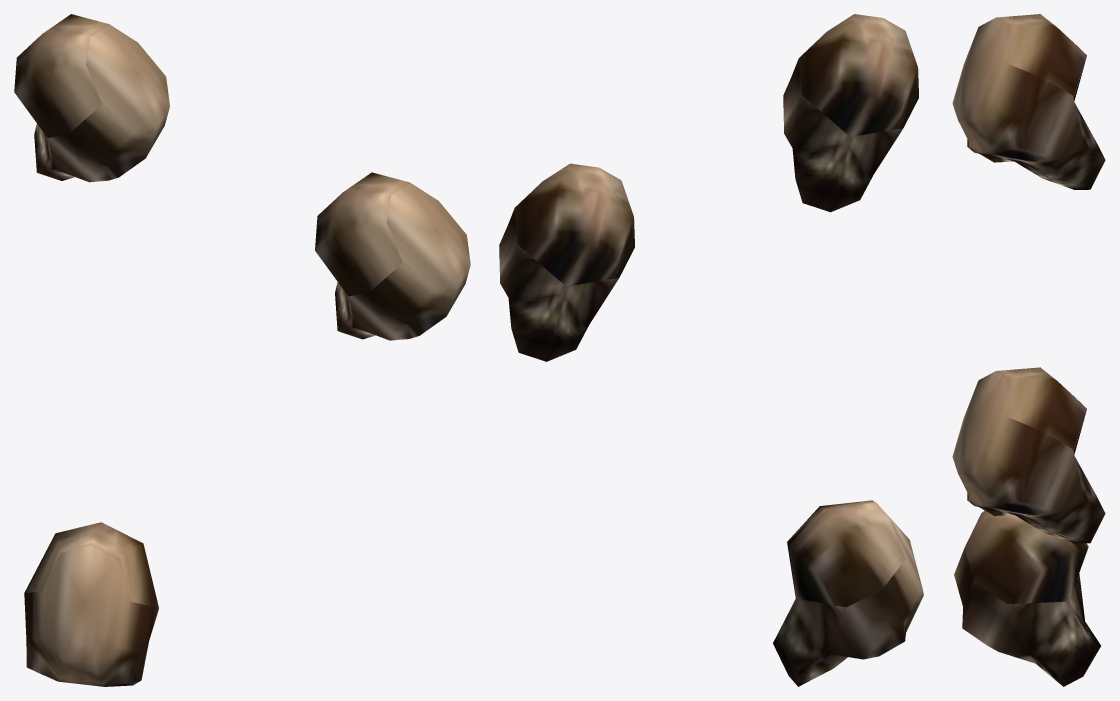
3 views of the same model, side by side, from view 1: azimuth 30°, elevation 25°; view 2: azimuth 150°, elevation 25°; view 3: azimuth 270°, elevation 25° (orthographic). The views are drawn at different scales.
Parts seen in each view (by area): view 1: model_Object37; view 2: model_Object37; view 3: model_Object37.
Boxes of the visible parts, x1=… form: model_Object37: x1=14, y1=14, x2=470, y2=686; model_Object37: x1=499, y1=14, x2=923, y2=686; model_Object37: x1=952, y1=14, x2=1105, y2=686.
Bounding box in the file's own units: 0.7157 × 1.07 × 0.2315.
1 material, 1 textured.
